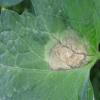Tomato leaf late blight: (1, 2, 99, 97)
